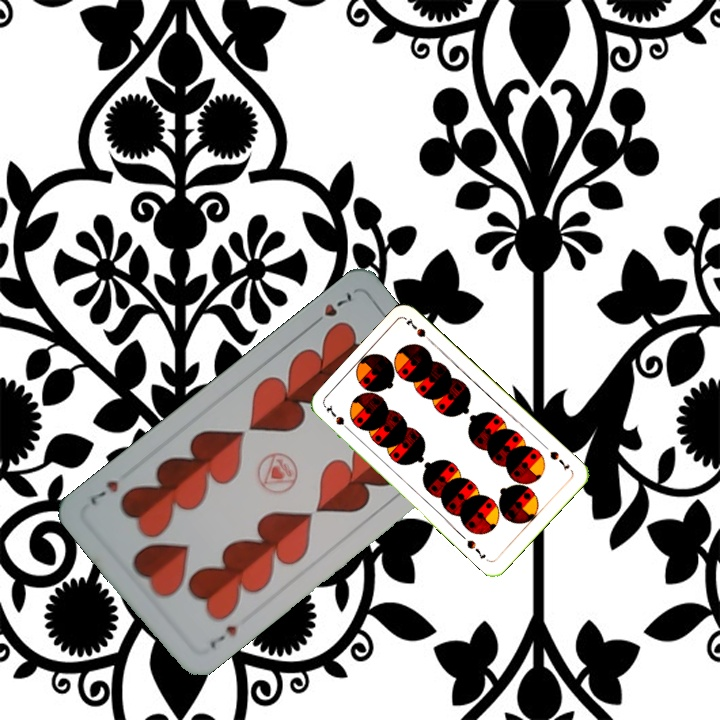H7: (307, 287, 355, 330), (205, 621, 240, 651)
S7: (321, 401, 355, 435), (546, 447, 572, 473)
